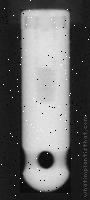Zimmer: (19, 9, 71, 193)
